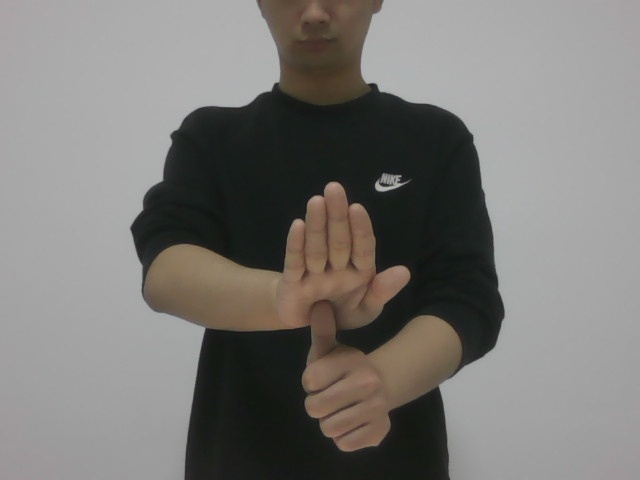love: (273, 187, 427, 452)
